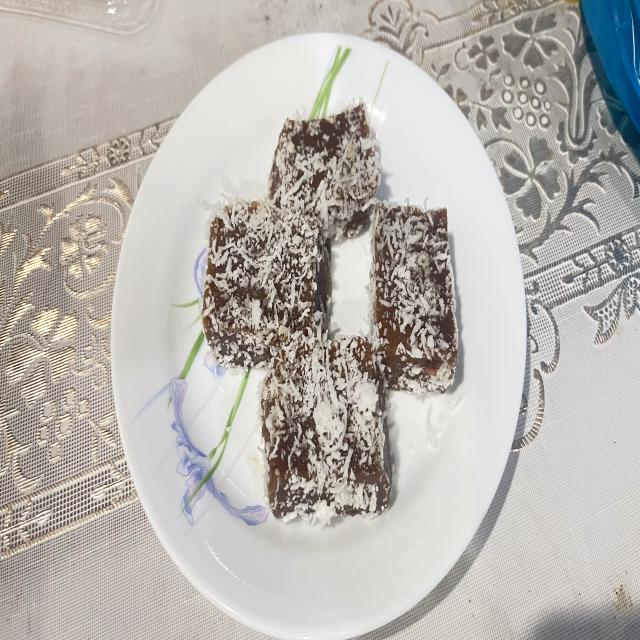kaswi: (260, 330, 394, 519), (198, 203, 335, 368), (367, 199, 456, 393), (269, 102, 379, 243)
